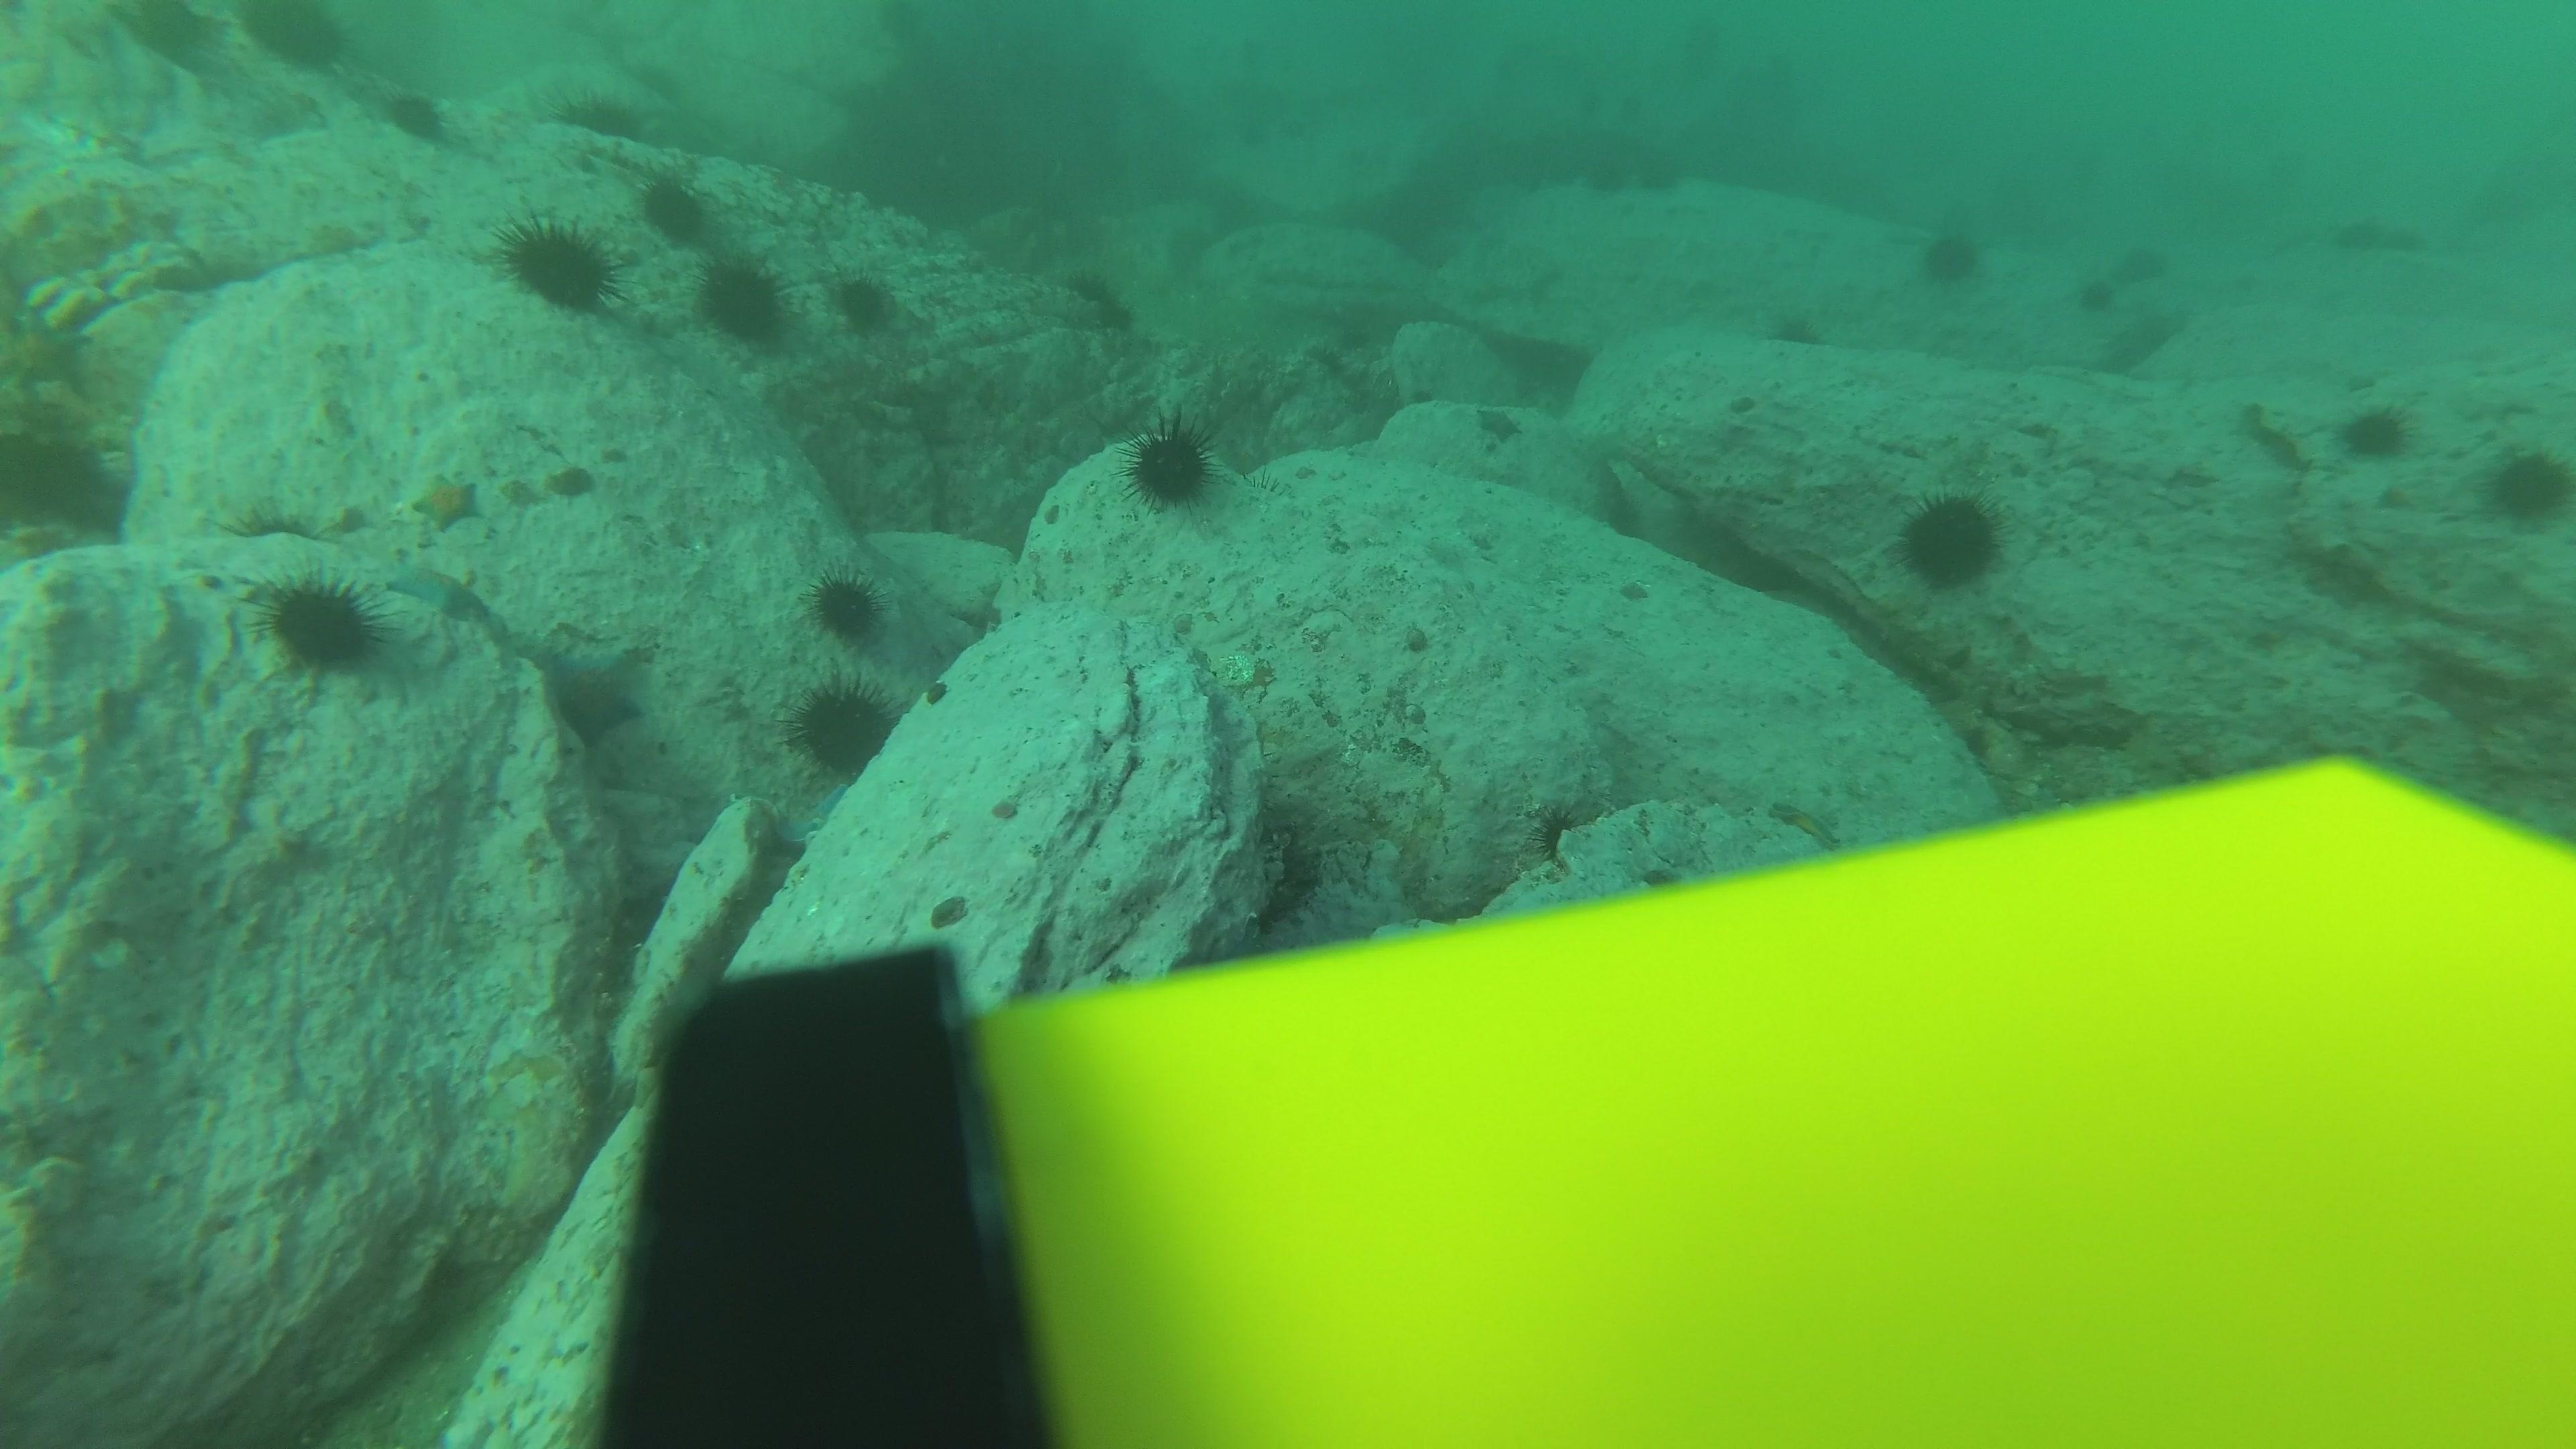echinus: (257, 570, 387, 679), (497, 212, 621, 315), (787, 676, 902, 782), (1891, 487, 2006, 591), (1120, 414, 1224, 513), (695, 253, 793, 347), (239, 0, 354, 74), (2482, 441, 2572, 527), (805, 566, 888, 646), (637, 166, 713, 242), (2337, 398, 2413, 465), (830, 267, 902, 336), (1914, 221, 1987, 288), (557, 85, 644, 140), (380, 83, 451, 147), (1532, 814, 1598, 879), (2109, 237, 2169, 278), (2109, 235, 2167, 276), (1631, 152, 1686, 195), (1762, 317, 1821, 356), (1063, 265, 1111, 306), (2376, 223, 2424, 264), (1086, 294, 1136, 333), (2328, 219, 2374, 260), (1591, 156, 1633, 196), (1615, 90, 1645, 122), (1569, 85, 1599, 117)
starfish: (536, 633, 655, 748), (379, 554, 487, 623), (409, 467, 483, 533), (1767, 791, 1845, 846), (1472, 402, 1527, 449)
